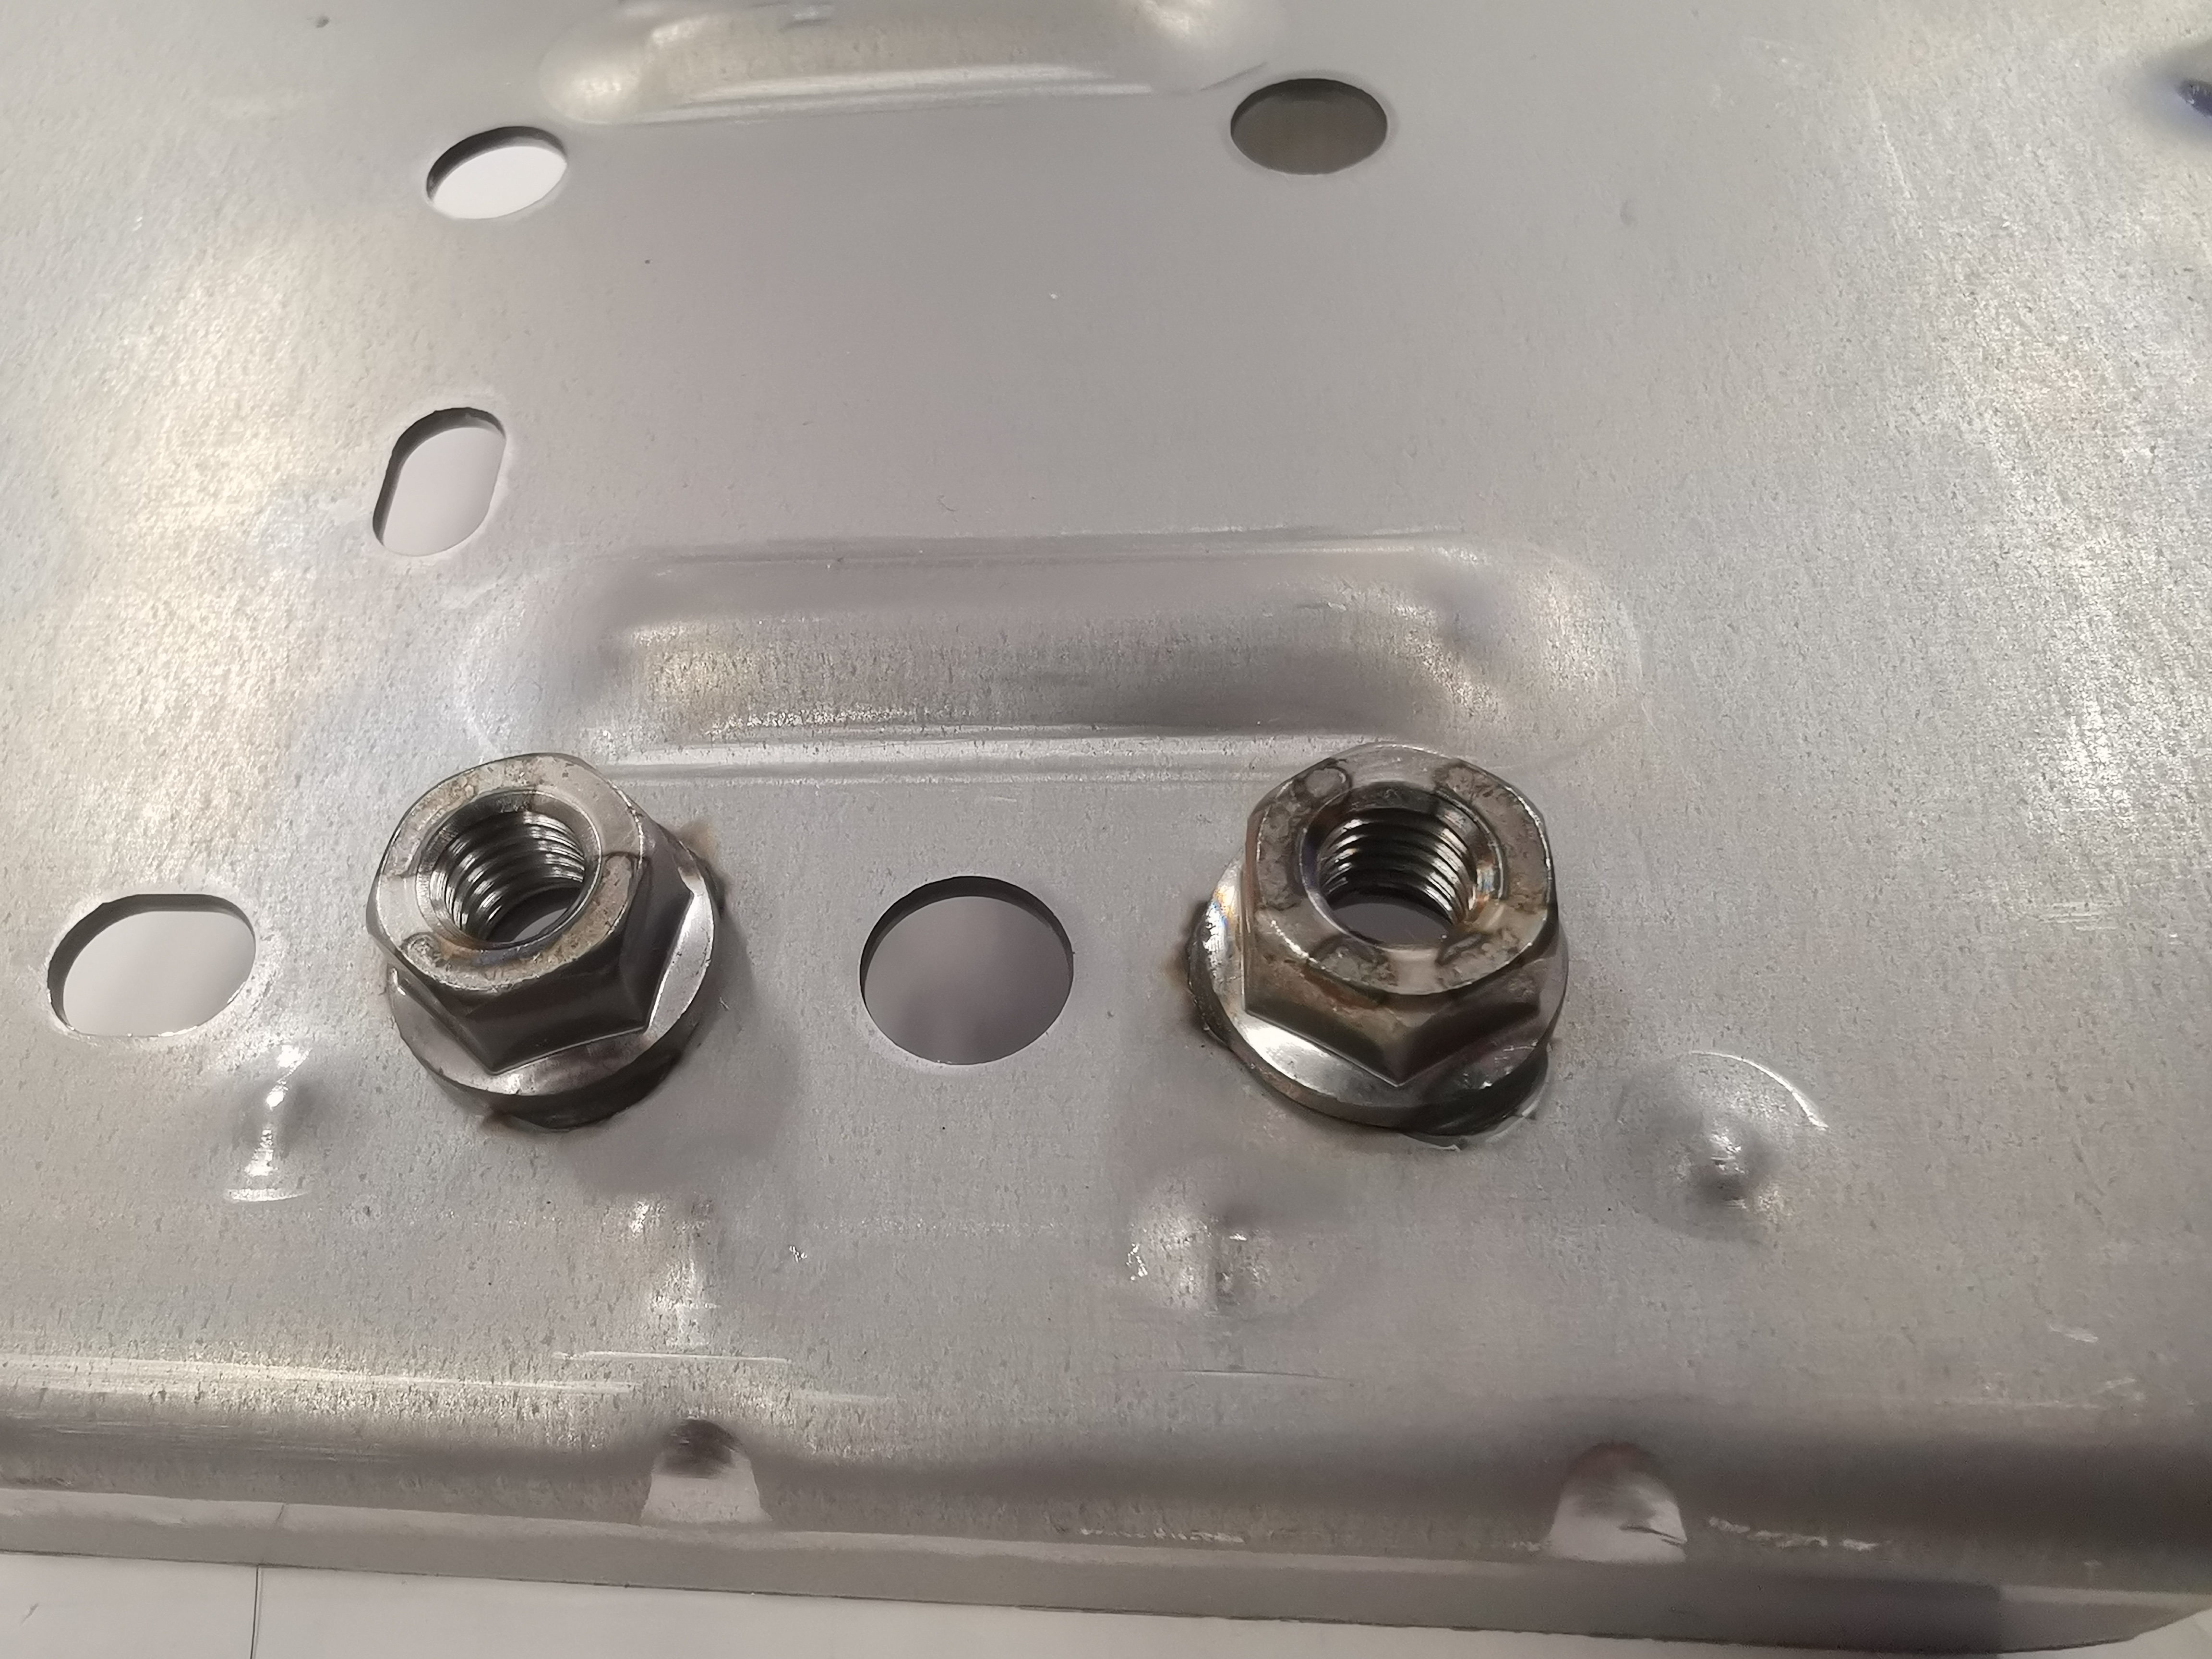dog: (1176, 735, 1580, 1140), (357, 746, 737, 1140)
